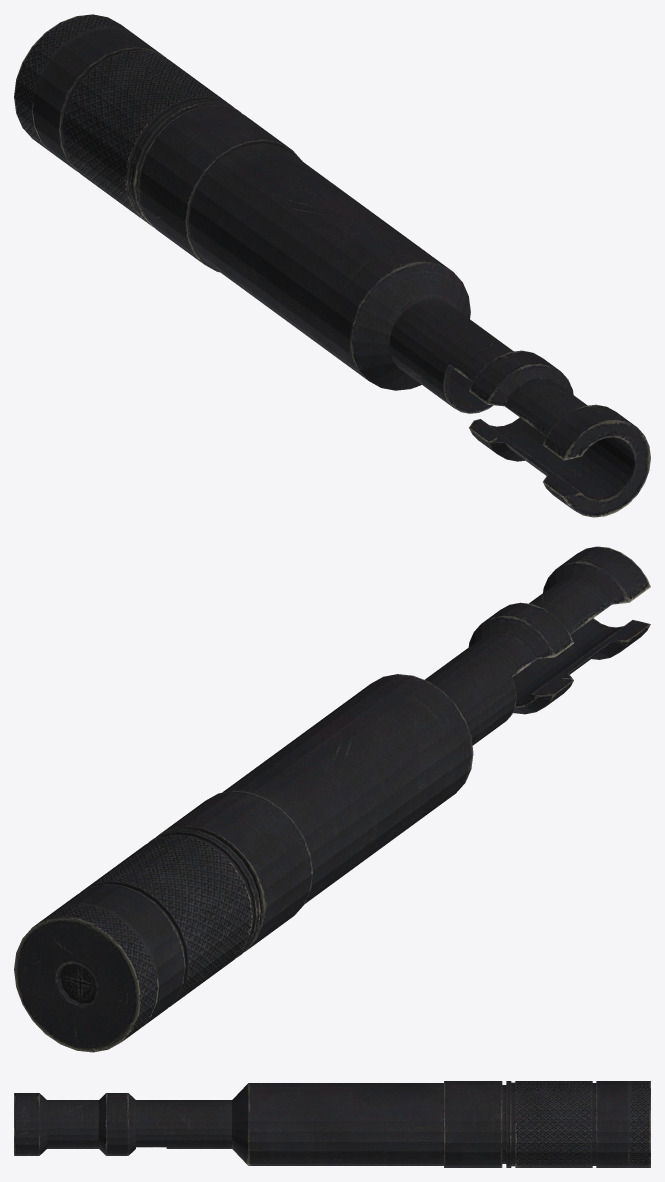
The picture shows the model from 3 angles, top to bottom: view 1: azimuth 30°, elevation 25°; view 2: azimuth 150°, elevation 25°; view 3: azimuth 270°, elevation 25°; orthographic projection. The views are drawn at different scales.
Parts seen in each view (by area): view 1: TW_5b86a0e586f7745b600ccb23_PZ_Import; view 2: TW_5b86a0e586f7745b600ccb23_PZ_Import; view 3: TW_5b86a0e586f7745b600ccb23_PZ_Import.
Part boxes in pixels (x1,y1,x2,y2): TW_5b86a0e586f7745b600ccb23_PZ_Import: (14, 14, 650, 517); TW_5b86a0e586f7745b600ccb23_PZ_Import: (14, 546, 650, 1052); TW_5b86a0e586f7745b600ccb23_PZ_Import: (14, 1081, 650, 1167).
Size of the model in its own units: 0.0186 by 0.1358 by 0.0186.
1 material, 1 textured.
